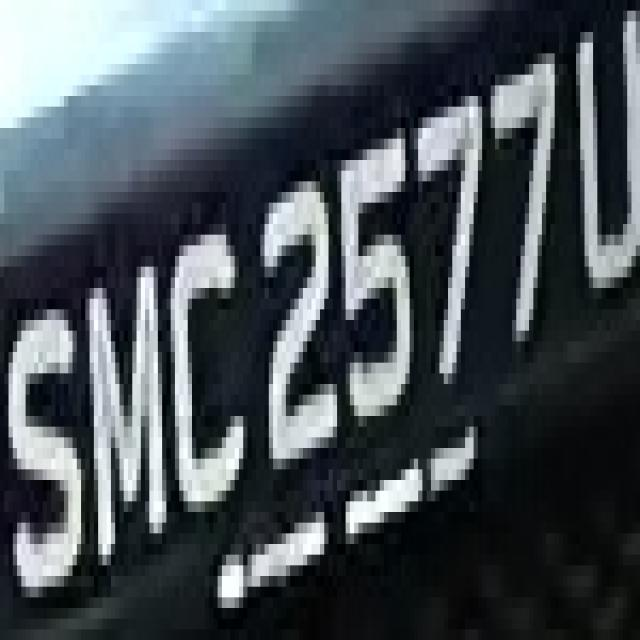2: (243, 160, 346, 512)
5: (320, 128, 427, 469)
7: (409, 85, 504, 416), (474, 32, 563, 384)
C: (166, 214, 252, 534)
M: (81, 213, 166, 576)
S: (5, 256, 86, 640)
U: (567, 22, 640, 310)
